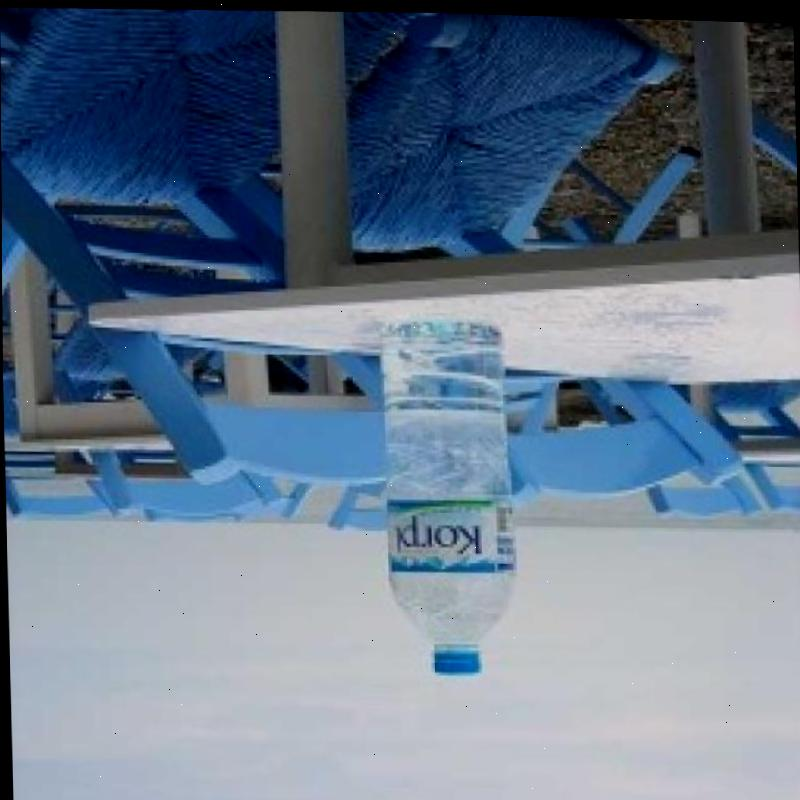botella: (382, 313, 525, 678)
